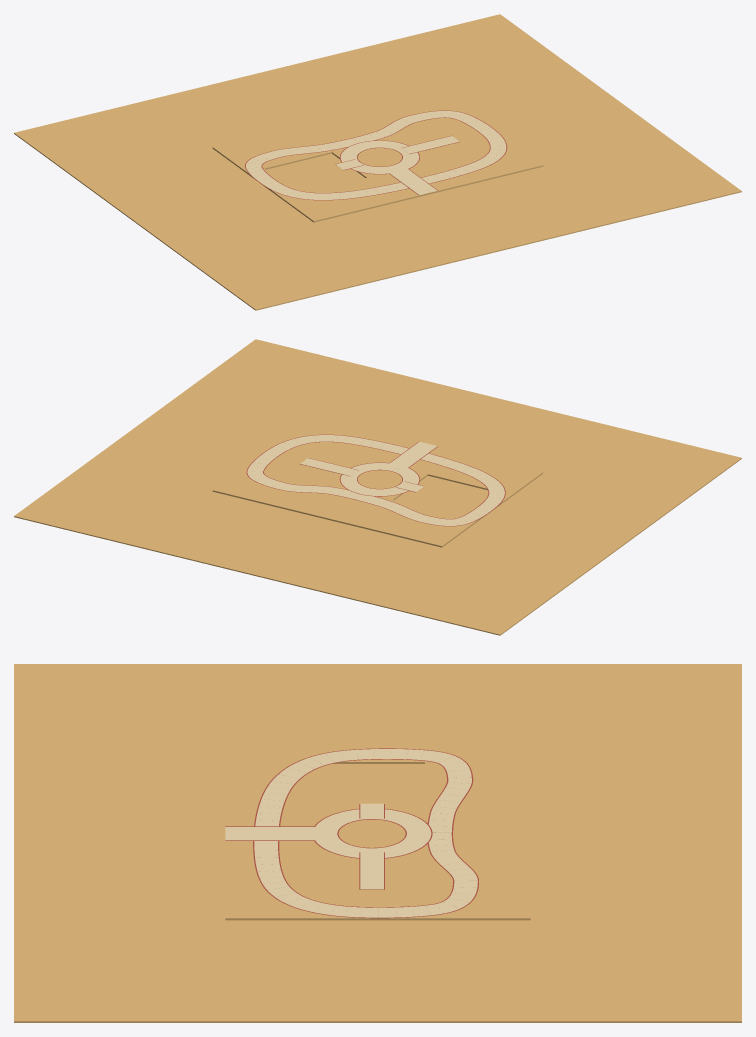
The model's file is grounds.glb.
3 renders of one model, top to bottom at view 1: azimuth 30°, elevation 25°; view 2: azimuth 150°, elevation 25°; view 3: azimuth 270°, elevation 25°, orthographic. The views are drawn at different scales.
Visible parts, largest first — view 1: grounds; view 2: grounds; view 3: grounds.
Boxes of the visible parts, x1=… form: grounds: x1=14, y1=14, x2=741, y2=310; grounds: x1=14, y1=339, x2=741, y2=635; grounds: x1=14, y1=664, x2=741, y2=1022.
Bounding box in the file's own units: 144 × 2.02 × 124.
